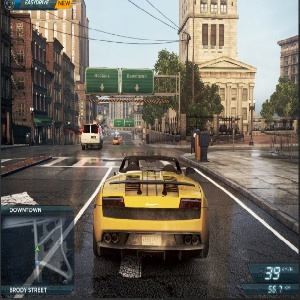building: (10, 14, 79, 147)
mailbox: (188, 126, 210, 162)
road sign: (87, 69, 155, 92)
tree: (157, 56, 219, 121), (266, 78, 300, 125), (141, 97, 168, 142)
vehicle: (81, 121, 104, 150), (111, 136, 120, 145)
